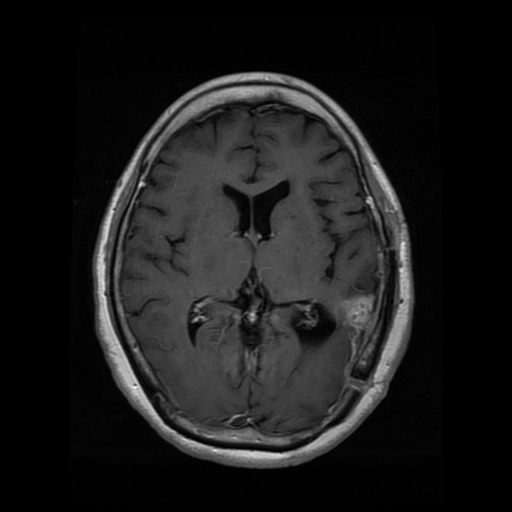glioma: (339, 294, 372, 359)
